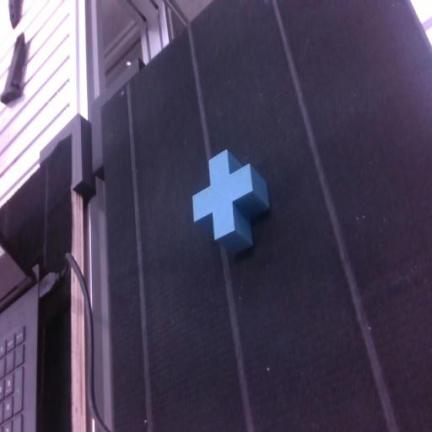cross: (193, 151, 269, 253)
